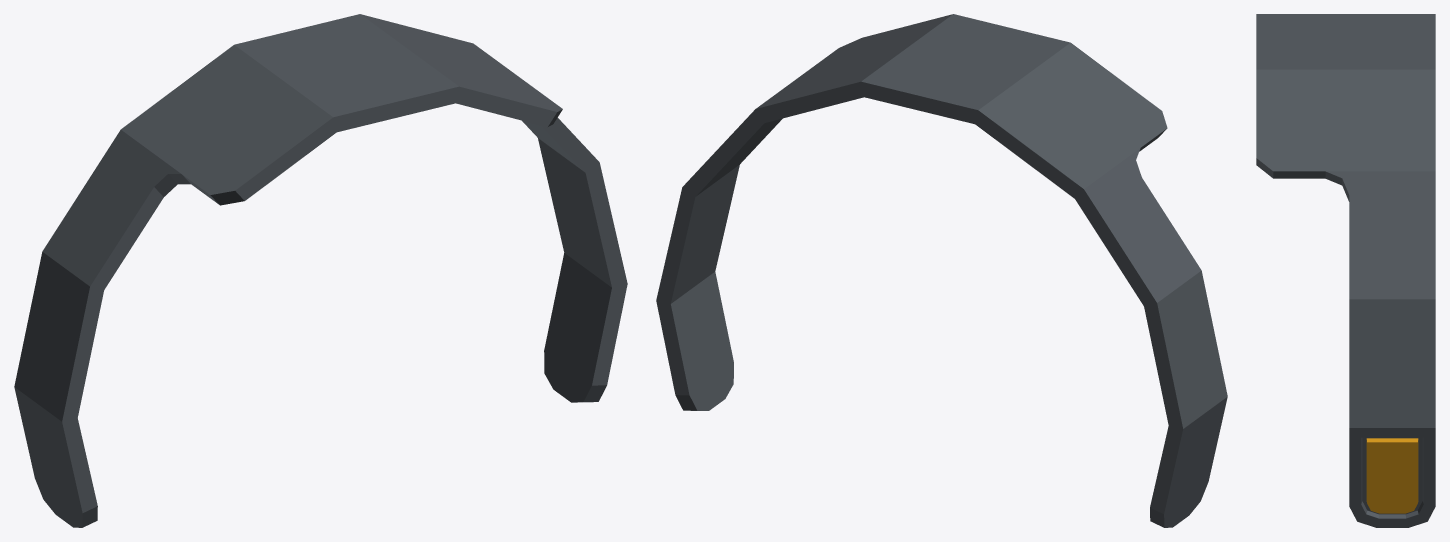
The model's file is Personal_Vehicle_03_Nose_Guard_Yellow.fbx.
3 renders of one model, left to right at view 1: azimuth 30°, elevation 25°; view 2: azimuth 150°, elevation 25°; view 3: azimuth 270°, elevation 25°, orthographic. The views are drawn at different scales.
Parts seen in each view (by area): view 1: Personal_Vehicle_03_Nose_Guard_Yellow; view 2: Personal_Vehicle_03_Nose_Guard_Yellow; view 3: Personal_Vehicle_03_Nose_Guard_Yellow.
Boxes of the visible parts, x1=… form: Personal_Vehicle_03_Nose_Guard_Yellow: x1=14, y1=14, x2=627, y2=527; Personal_Vehicle_03_Nose_Guard_Yellow: x1=656, y1=14, x2=1227, y2=527; Personal_Vehicle_03_Nose_Guard_Yellow: x1=1256, y1=14, x2=1435, y2=527.
Bounding box in the file's own units: 73.65 × 51.23 × 22.37.
Materials: 1 (1 with a texture image).
